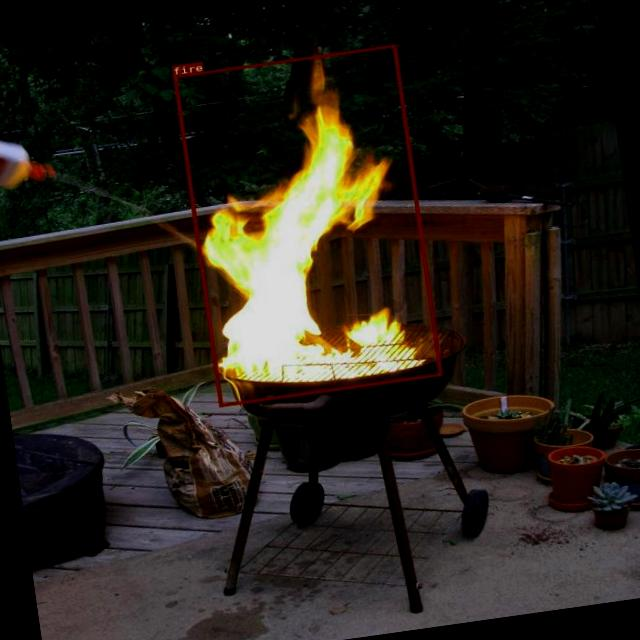fire: (172, 44, 441, 407)
